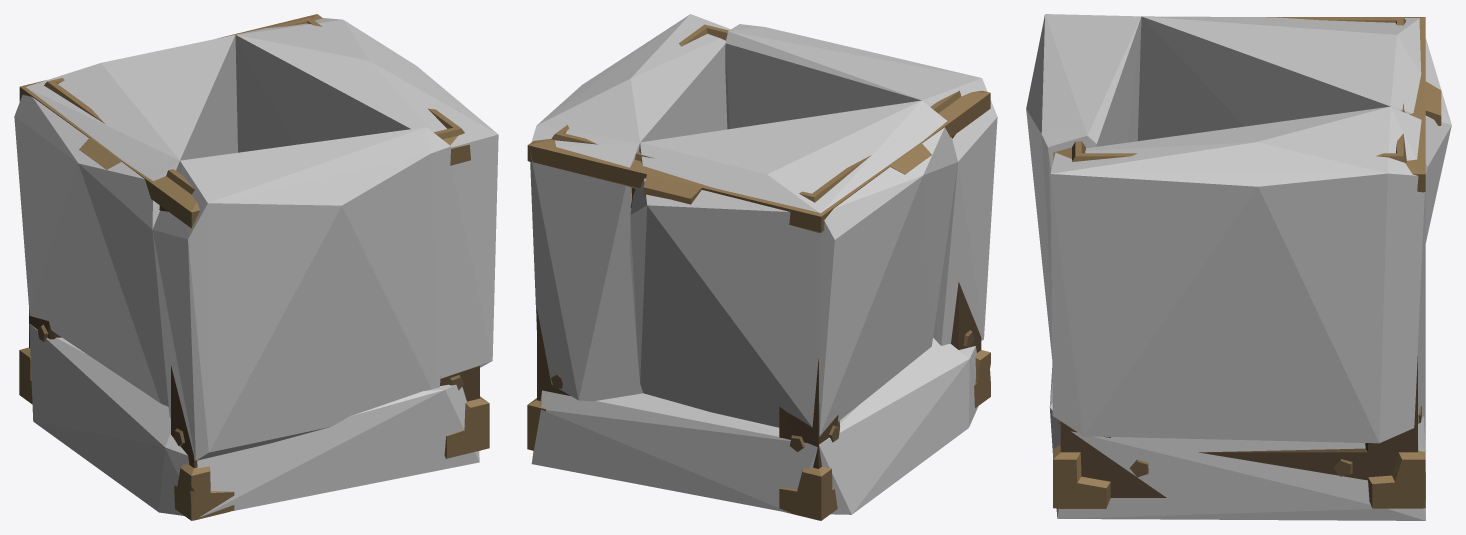
The model's file is SM_Prop_Crate_06.fbx.
3 views of the same model, side by side, from view 1: azimuth 30°, elevation 25°; view 2: azimuth 150°, elevation 25°; view 3: azimuth 270°, elevation 25° (orthographic). The views are drawn at different scales.
Visible parts, largest first — view 1: SM_Prop_Crate_06_ConvexHulls, SM_Prop_Crate_06; view 2: SM_Prop_Crate_06_ConvexHulls, SM_Prop_Crate_06; view 3: SM_Prop_Crate_06_ConvexHulls, SM_Prop_Crate_06.
Boxes of the visible parts, x1,y1,x2,y2 form: SM_Prop_Crate_06_ConvexHulls: [14, 18, 498, 517]; SM_Prop_Crate_06: [19, 14, 489, 520]; SM_Prop_Crate_06_ConvexHulls: [530, 14, 997, 514]; SM_Prop_Crate_06: [527, 24, 990, 520]; SM_Prop_Crate_06_ConvexHulls: [1026, 14, 1451, 520]; SM_Prop_Crate_06: [1053, 17, 1441, 508].
Bounding box in the file's own units: 99.67 × 99.25 × 94.43.
2 materials, 1 textured.
